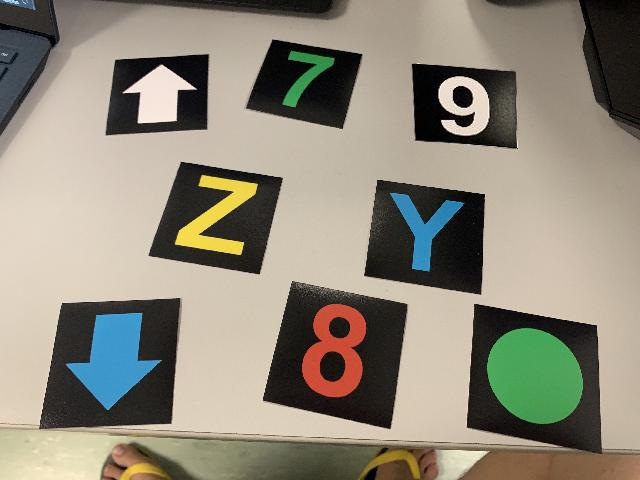7: (252, 37, 364, 134)
8: (275, 281, 409, 431)
9: (413, 62, 521, 149)
down: (40, 301, 177, 425)
go: (466, 301, 604, 455)
up: (108, 55, 209, 131)
y: (363, 179, 486, 297)
z: (159, 161, 285, 275)
